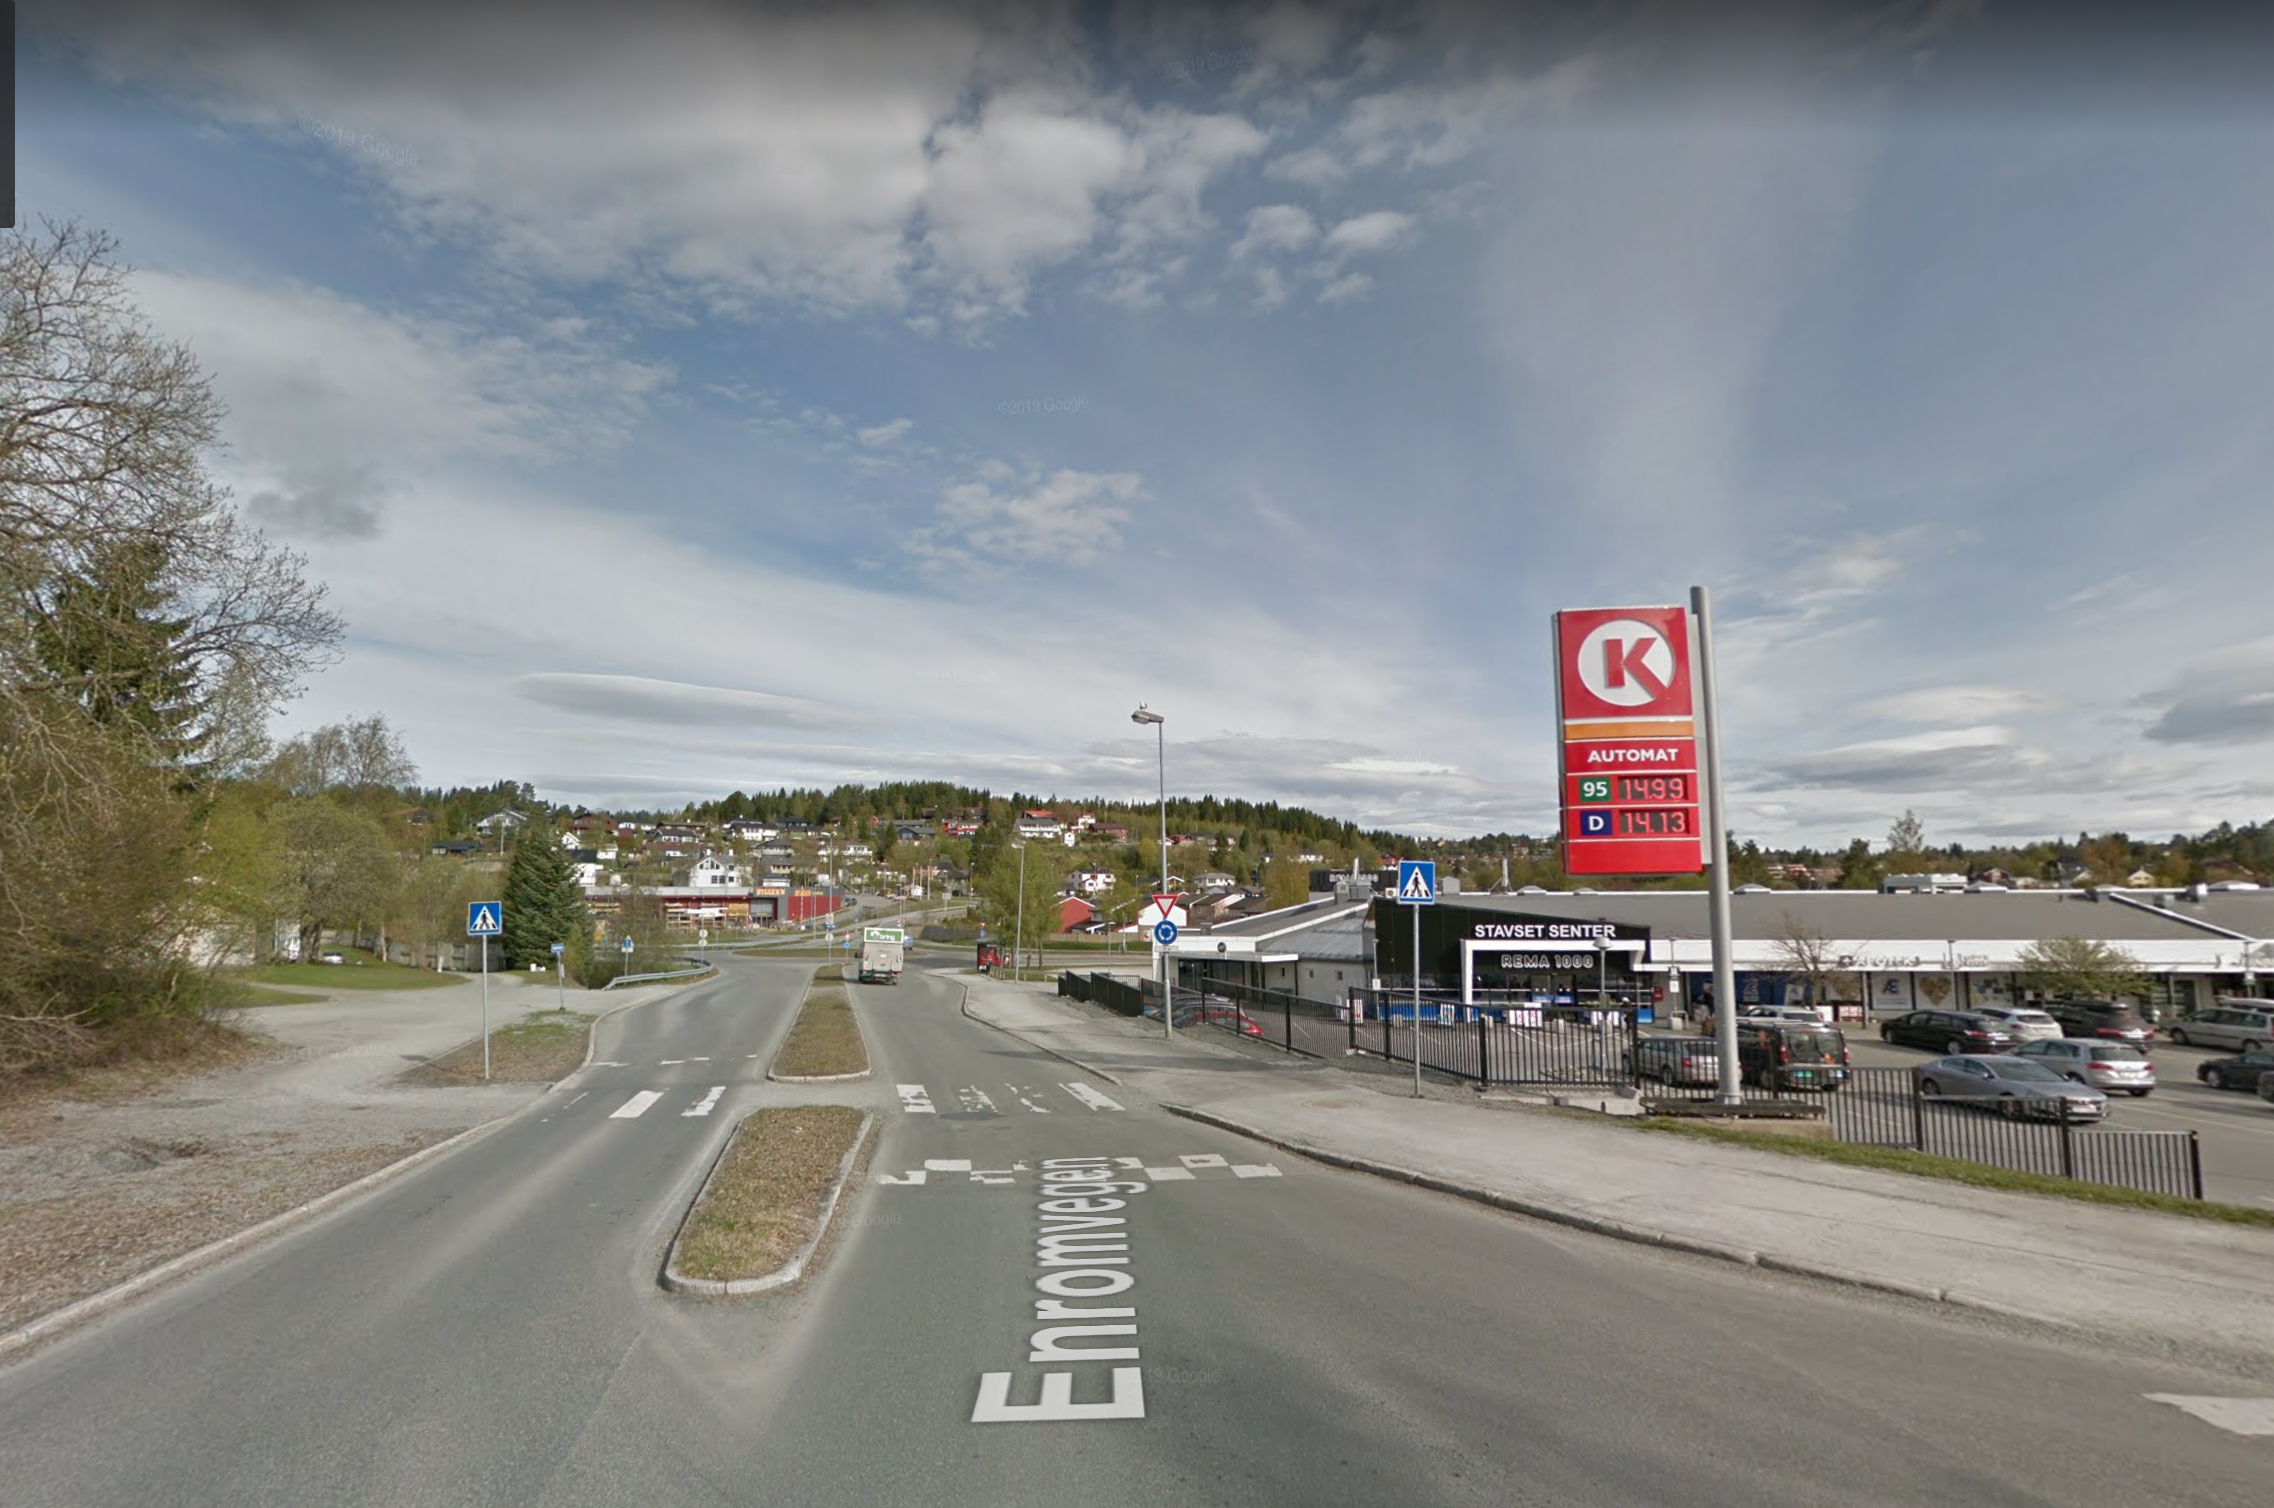fuel: (1549, 603, 1703, 870)
